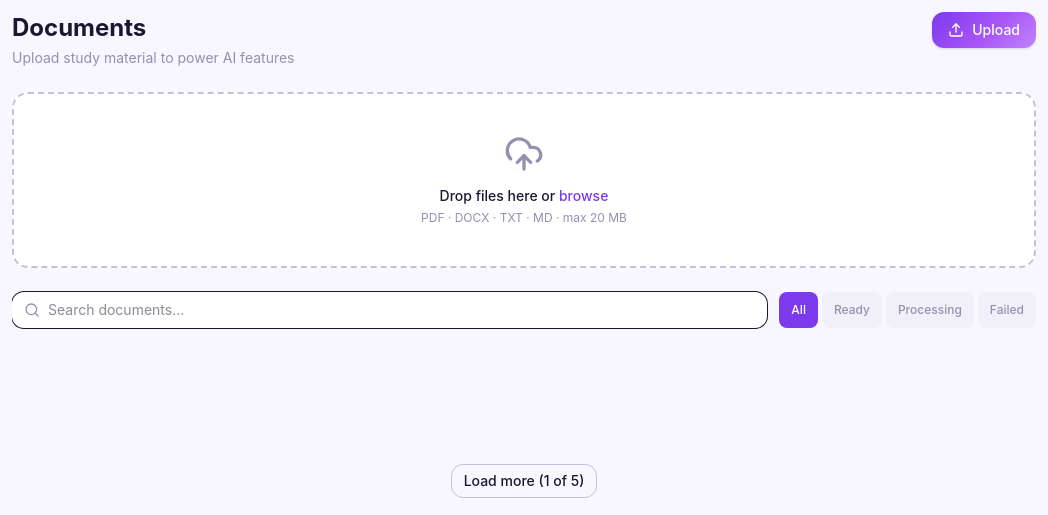
Scenario: DocumentsPage › pagination › hides Load more while actively searching
The width and height of the screenshot is (1048, 515).
expect the button "Load more (1 of 5)" is shown: met, box [451,464,597,498]
Type "lecture" into the field with placeholder "Search documents…" at (390, 310), box [12,292,767,328]
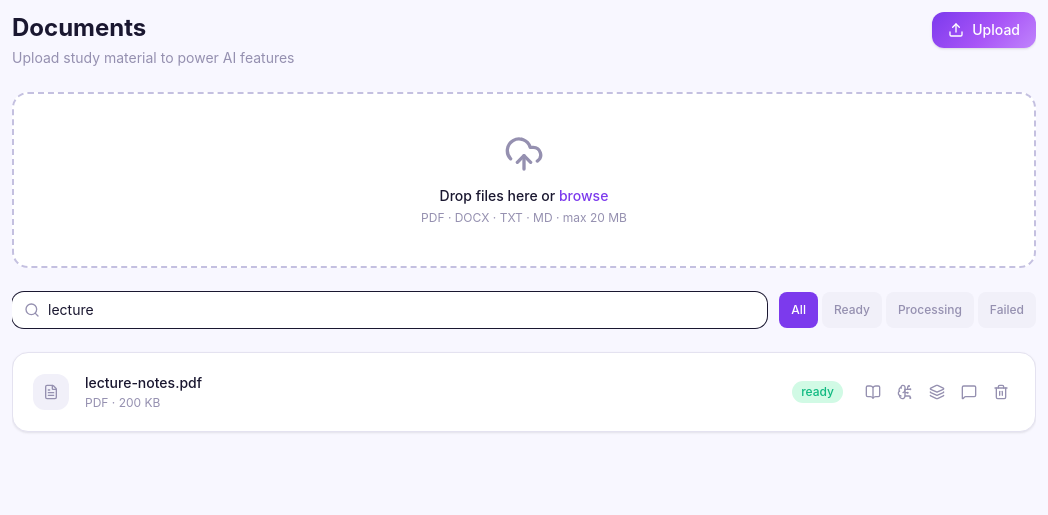
expect the button "Load more" is gone: met
